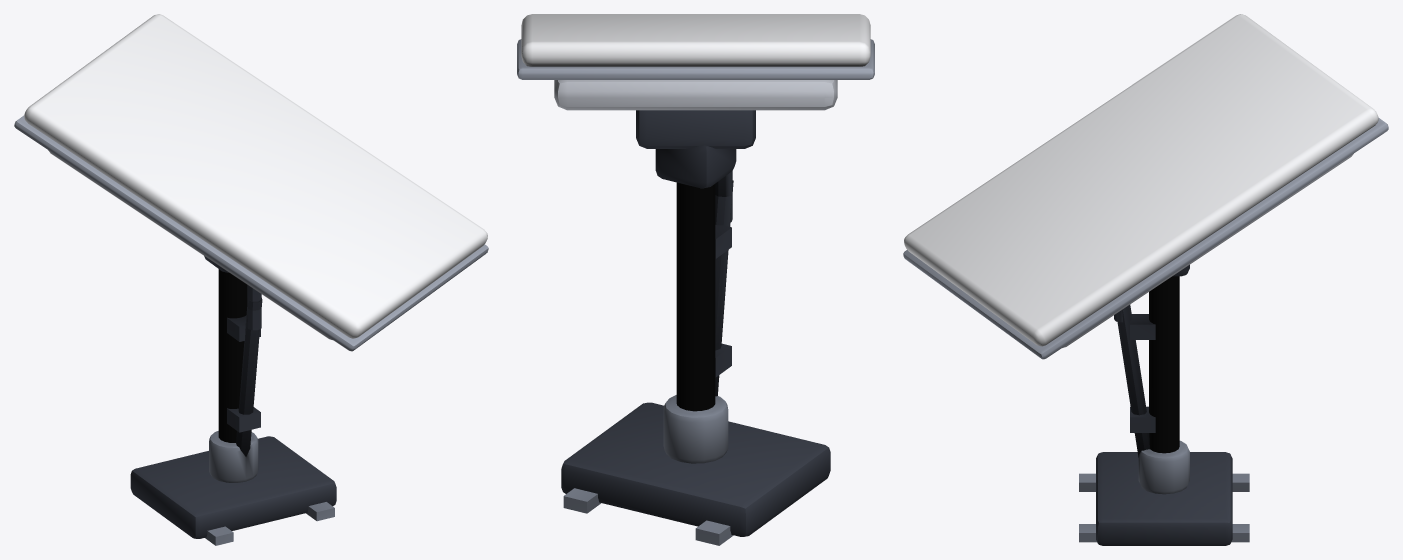
The model's file is terminal.envelope.glb.
The picture shows the model from 3 angles, left to right: view 1: azimuth 30°, elevation 25°; view 2: azimuth 150°, elevation 25°; view 3: azimuth 270°, elevation 25°; orthographic projection. The views are drawn at different scales.
Visible parts, largest first — view 1: terminal.white, terminal.graphite, terminal.metal, terminal.mid, terminal.light; view 2: terminal.graphite, terminal.white, terminal.metal, terminal.light, terminal.mid; view 3: terminal.white, terminal.graphite, terminal.metal, terminal.mid, terminal.light.
Boxes of the visible parts, box(x1,y1,x2,y2) form: terminal.white: box(24, 14, 487, 338); terminal.graphite: box(130, 256, 336, 538); terminal.metal: box(205, 269, 334, 545); terminal.mid: box(14, 115, 488, 351); terminal.light: box(48, 150, 332, 339); terminal.graphite: box(561, 110, 830, 536); terminal.white: box(521, 14, 870, 66); terminal.metal: box(563, 182, 733, 545); terminal.light: box(554, 80, 837, 110); terminal.mid: box(517, 39, 874, 79); terminal.white: box(904, 14, 1378, 346); terminal.graphite: box(1096, 265, 1232, 545); terminal.metal: box(1079, 276, 1249, 542); terminal.mid: box(903, 117, 1388, 359); terminal.light: box(1062, 153, 1353, 347).
Size of the model in its own units: 0.5161 by 0.5386 by 0.5689.
